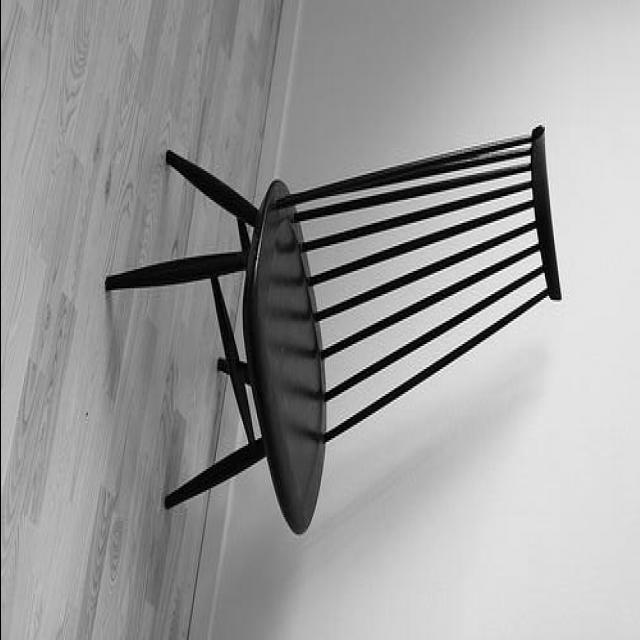chair: (106, 123, 564, 534)
